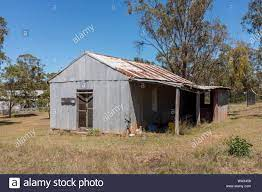Tin-shade House: (41, 49, 228, 135)
